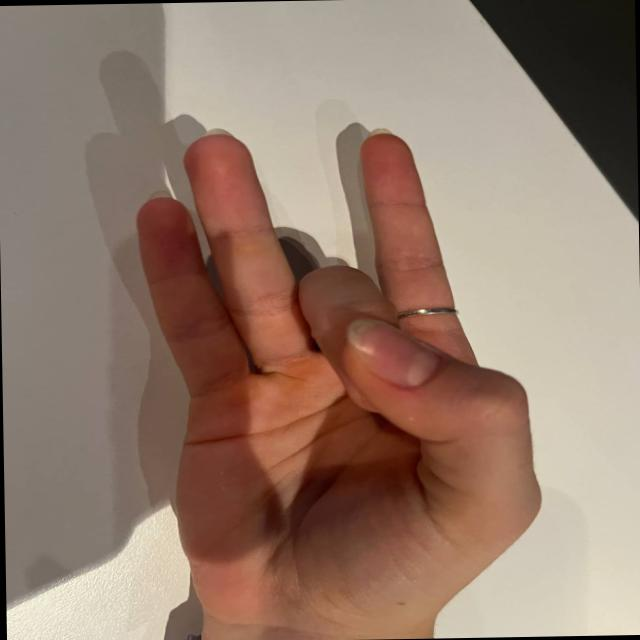r: (114, 97, 534, 628)
